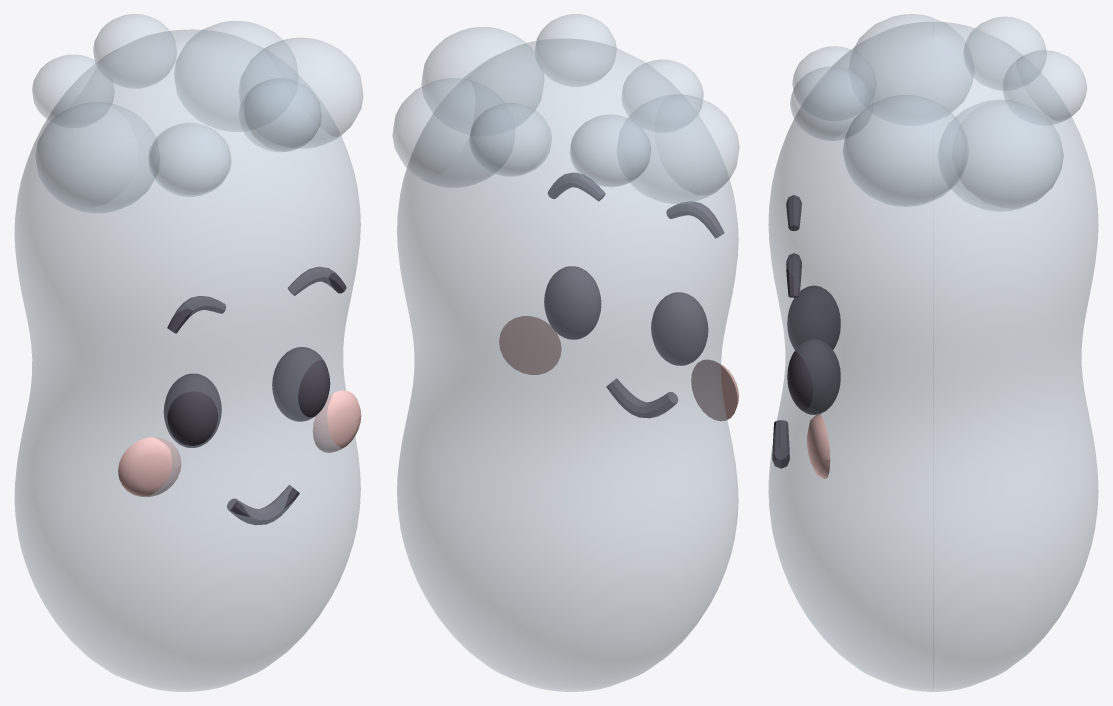
The model's file is jelly-friends-playroom-jelly-cloud-stretched-55db893d__27614.glb.
3 renders of one model, left to right at view 1: azimuth 30°, elevation 25°; view 2: azimuth 150°, elevation 25°; view 3: azimuth 270°, elevation 25°, orthographic. The views are drawn at different scales.
Parts seen in each view (by area): view 1: body, crown, eye-right, eye-left, blush-left, blush-right, mouth, brow-left, brow-right; view 2: body, crown, eye-left, eye-right, blush-right, blush-left, mouth, brow-left, brow-right; view 3: body, crown, eye-right, eye-left, blush-right, mouth, brow-right.
Boxes of the visible parts, <box> form: body: <box>14,29,360,691</box>; crown: <box>32,14,362,212</box>; eye-right: <box>272,347,330,421</box>; eye-left: <box>163,373,221,447</box>; blush-left: <box>118,437,181,496</box>; blush-right: <box>312,390,361,452</box>; mouth: <box>226,485,299,525</box>; brow-left: <box>167,296,225,333</box>; brow-right: <box>288,266,346,295</box>; body: <box>397,39,738,691</box>; crown: <box>392,14,739,203</box>; eye-left: <box>651,292,708,365</box>; eye-right: <box>544,266,601,339</box>; blush-right: <box>499,316,561,374</box>; blush-left: <box>691,359,738,421</box>; mouth: <box>606,378,678,418</box>; brow-left: <box>666,201,724,238</box>; brow-right: <box>547,172,605,201</box>; body: <box>768,21,1098,691</box>; crown: <box>790,14,1086,211</box>; eye-right: <box>787,339,840,414</box>; eye-left: <box>787,285,840,349</box>; blush-right: <box>807,413,830,478</box>; mouth: <box>772,420,789,468</box>; brow-right: <box>786,253,801,297</box>.
Bounding box in the file's own units: 0.2047 × 0.3937 × 0.1879.
